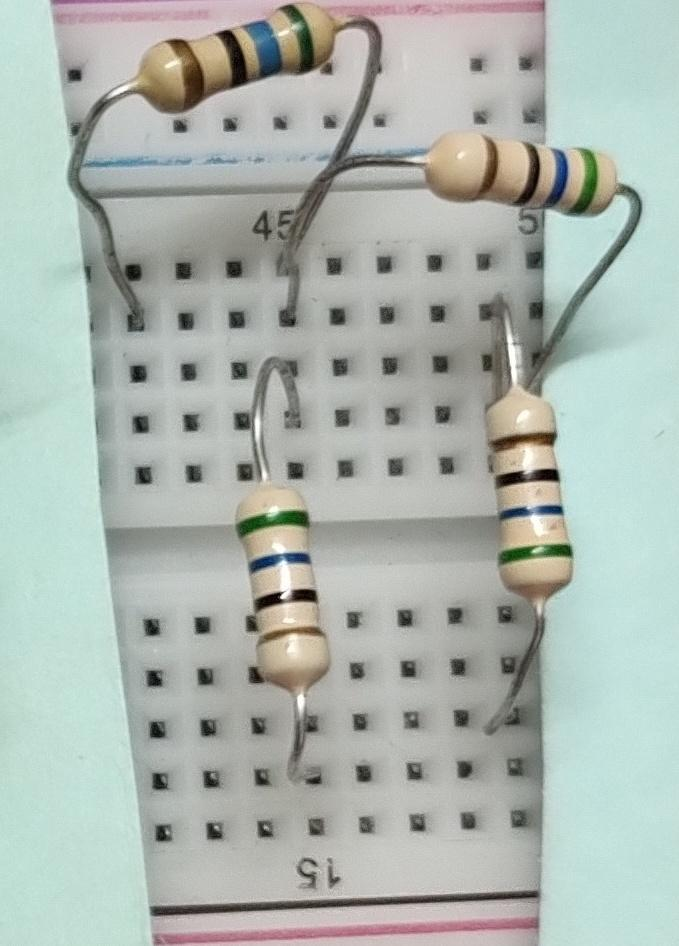resistor: (127, 0, 355, 112), (421, 111, 622, 233), (473, 383, 576, 616), (229, 469, 333, 694)
